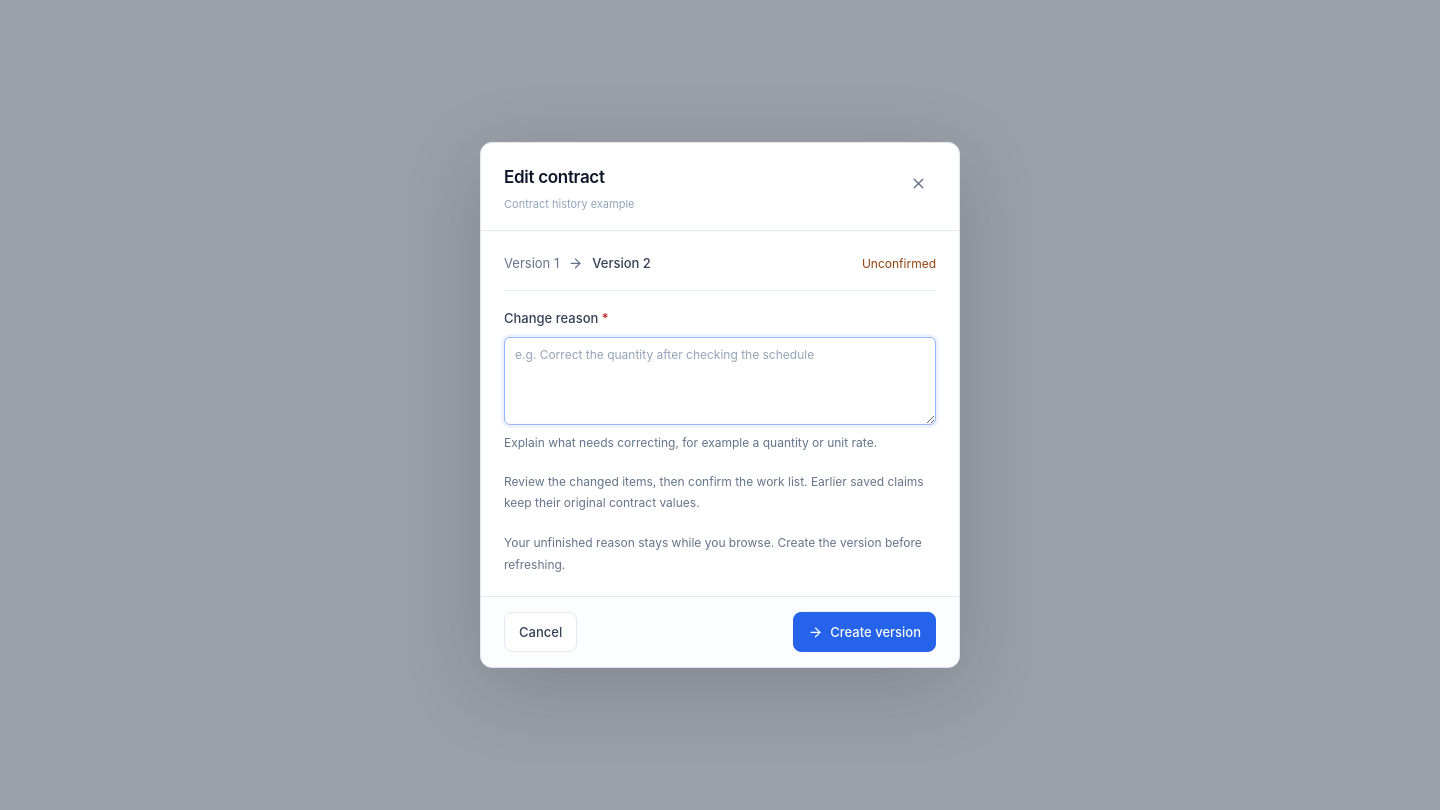
Test: compact contract revision entry › keeps a failed reason for retry and blocks duplicate pending submissions
Type "Correction after source review" into the text box labelled "Change reason *".
click(720, 381); type("Correction after source review")  # box [504,337,936,425]
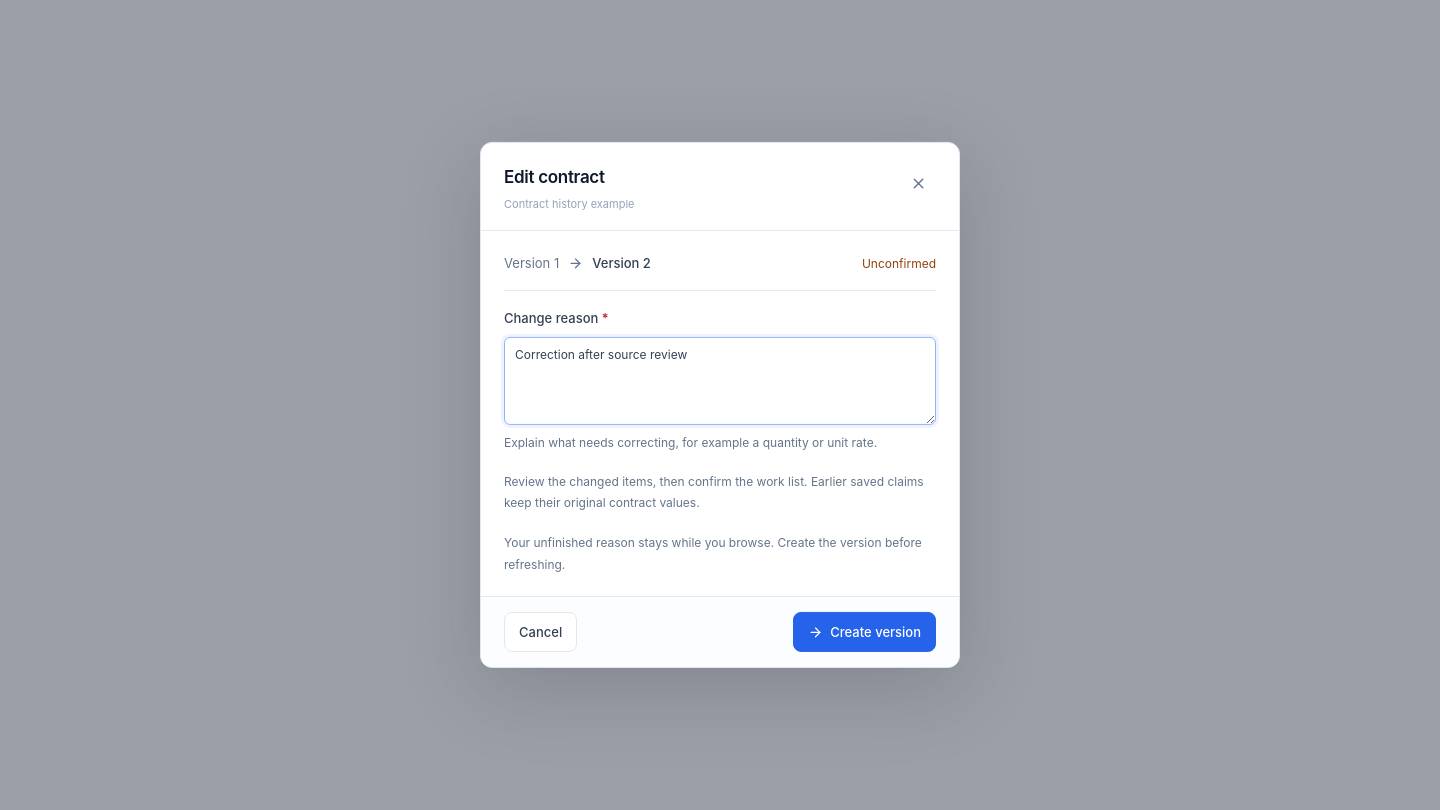
Click the button "Create version".
click(865, 632)  # box [793,612,936,652]
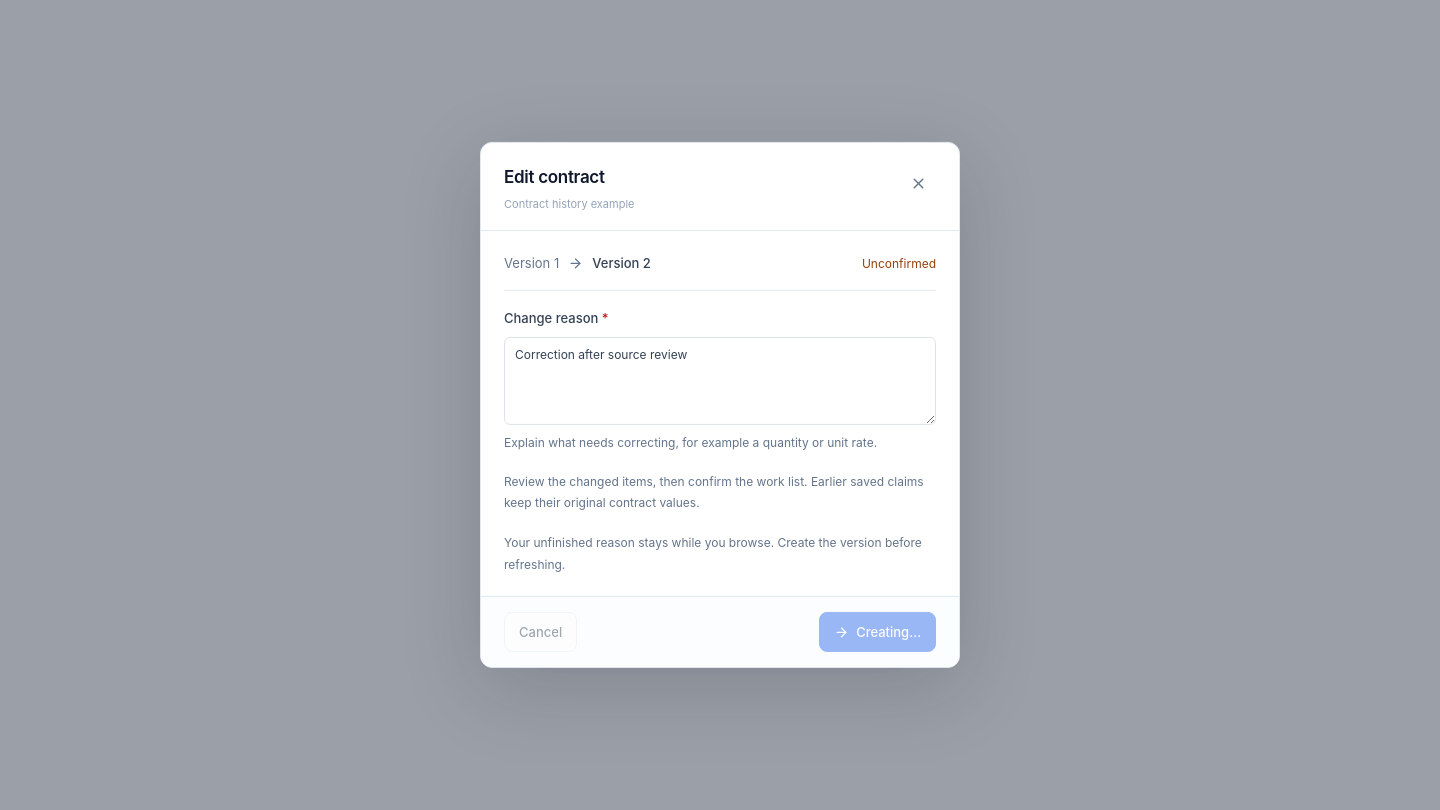
Check: the button "Creating…" is disabled, box [819,612,936,652]
Submit the form with class "contract-revision-form", box [504,252,936,575]
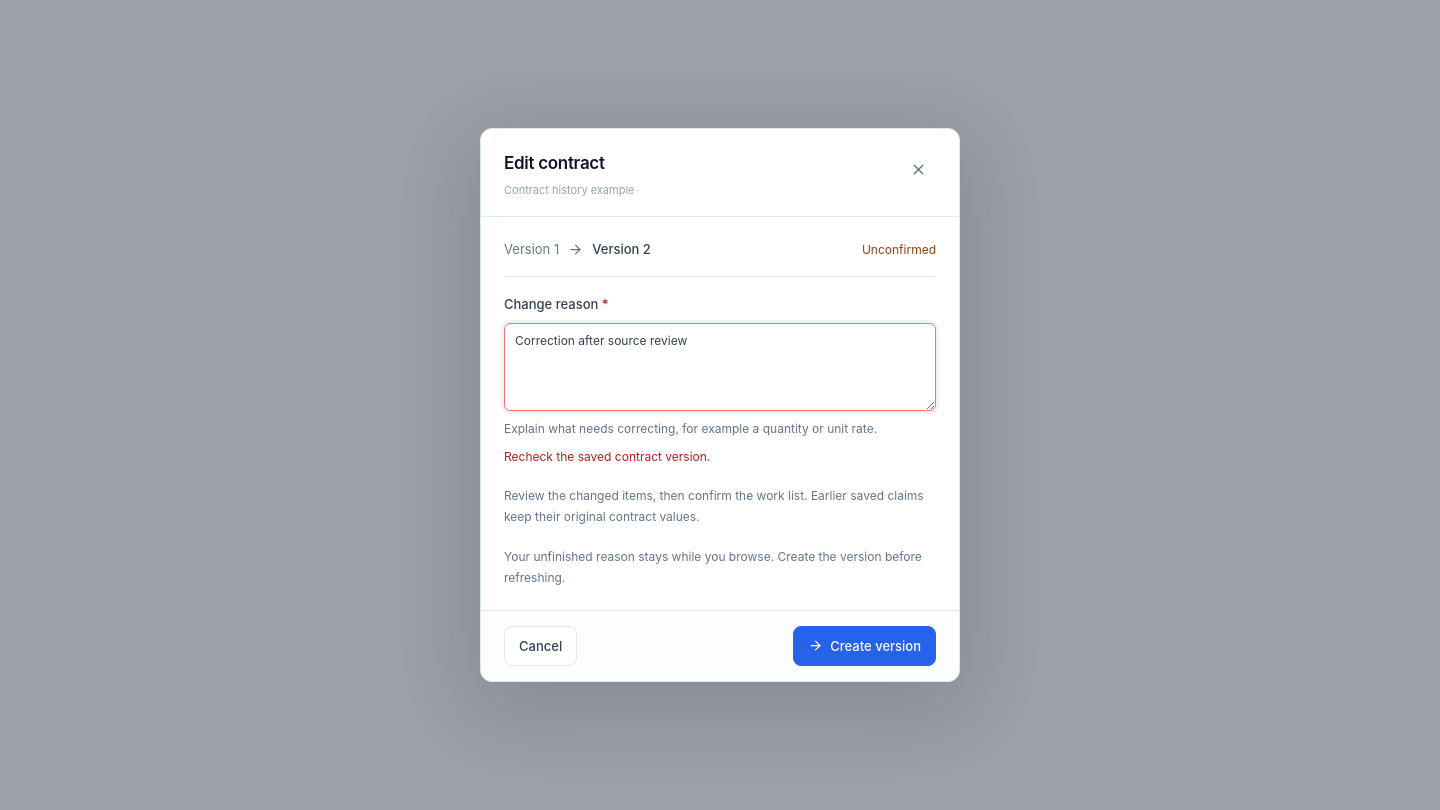
Check: the message shows "Recheck the saved contract version", box [504,449,710,464]
Check: the button "Create version" is enabled, box [793,626,936,666]
